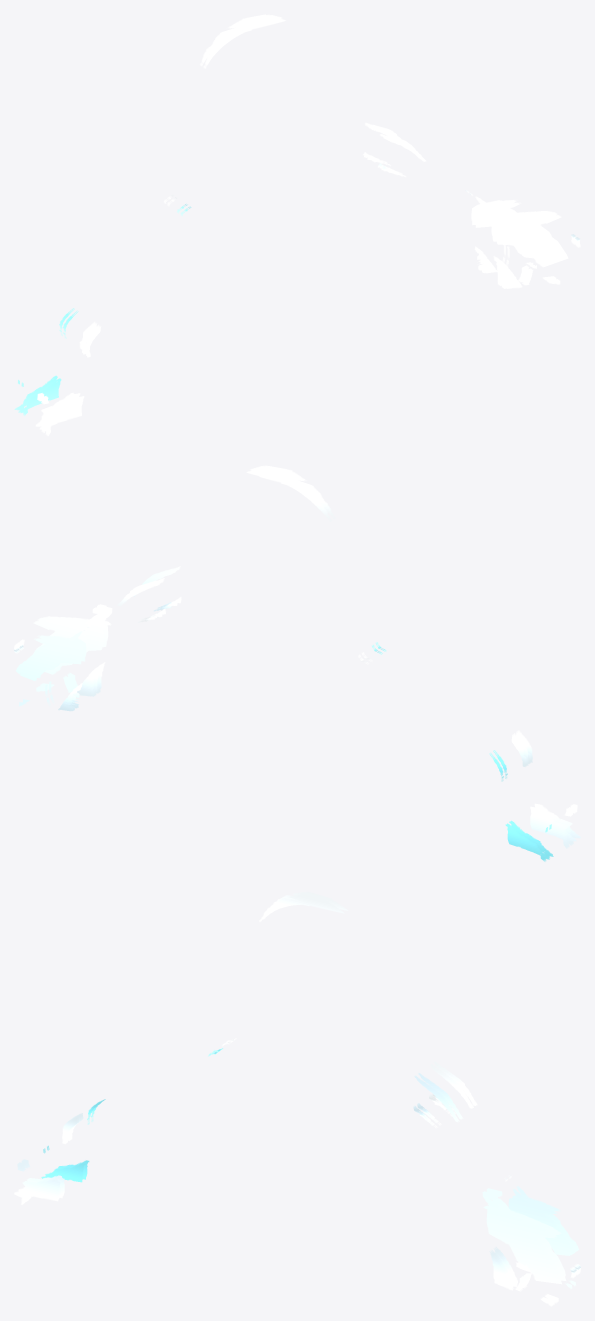
Rendered from yuna_curve_bundle_hair_v1_repair_attempt_01.glb.
3 views of the same model, one above another, from view 1: azimuth 30°, elevation 25°; view 2: azimuth 150°, elevation 25°; view 3: azimuth 330°, elevation 25° (orthographic). The views are drawn at different scales.
Visible parts, largest first — view 1: back_hair_mass_repair_01_01_01, bangs_primary_repair_01_01_01, back_hair_mass_repair_01_02_01, side_hair_right_primary_repair_01_01_01, side_hair_left_primary_repair_01_01_01; view 2: side_hair_right_primary_repair_01_01_02, back_hair_mass_repair_01_01_03, bangs_primary_repair_01_01_02, back_hair_mass_repair_01_02_03, back_hair_mass_repair_01_01_01, side_hair_right_primary_repair_01_01_01, side_hair_left_primary_repair_01_01_02, bangs_primary_repair_01_01_01; view 3: back_hair_mass_repair_01_01_01, side_hair_right_primary_repair_01_01_01, back_hair_mass_repair_01_02_01, bangs_primary_repair_01_01_01, back_hair_mass_repair_01_01_02, back_hair_mass_repair_01_01_03, side_hair_left_primary_repair_01_01_01, back_hair_mass_repair_01_03_01.
Boxes of the visible parts, x1=… form: back_hair_mass_repair_01_01_01: x1=491, y1=201, x2=568, y2=285; bangs_primary_repair_01_01_01: x1=201, y1=14, x2=285, y2=68; back_hair_mass_repair_01_02_01: x1=35, y1=393, x2=84, y2=435; side_hair_right_primary_repair_01_01_01: x1=471, y1=197, x2=536, y2=268; side_hair_left_primary_repair_01_01_01: x1=17, y1=376, x2=61, y2=415; side_hair_right_primary_repair_01_01_02: x1=16, y1=632, x2=81, y2=706; back_hair_mass_repair_01_01_03: x1=33, y1=605, x2=111, y2=692; bangs_primary_repair_01_01_02: x1=259, y1=466, x2=334, y2=521; back_hair_mass_repair_01_02_03: x1=530, y1=805, x2=575, y2=848; back_hair_mass_repair_01_01_01: x1=35, y1=604, x2=108, y2=689; side_hair_right_primary_repair_01_01_01: x1=19, y1=631, x2=86, y2=704; side_hair_left_primary_repair_01_01_02: x1=505, y1=821, x2=553, y2=861; bangs_primary_repair_01_01_01: x1=246, y1=465, x2=335, y2=520; back_hair_mass_repair_01_01_01: x1=486, y1=1191, x2=566, y2=1306; side_hair_right_primary_repair_01_01_01: x1=508, y1=1186, x2=577, y2=1288; back_hair_mass_repair_01_02_01: x1=14, y1=1161, x2=64, y2=1204; bangs_primary_repair_01_01_01: x1=259, y1=892, x2=348, y2=921; back_hair_mass_repair_01_01_02: x1=482, y1=1189, x2=564, y2=1305; back_hair_mass_repair_01_01_03: x1=483, y1=1188, x2=565, y2=1304; side_hair_left_primary_repair_01_01_01: x1=42, y1=1146, x2=87, y2=1182; back_hair_mass_repair_01_03_01: x1=489, y1=1248, x2=517, y2=1290.
Size of the model in its own units: 3.08 by 1.8 by 0.412.
5 materials, 4 textured.
